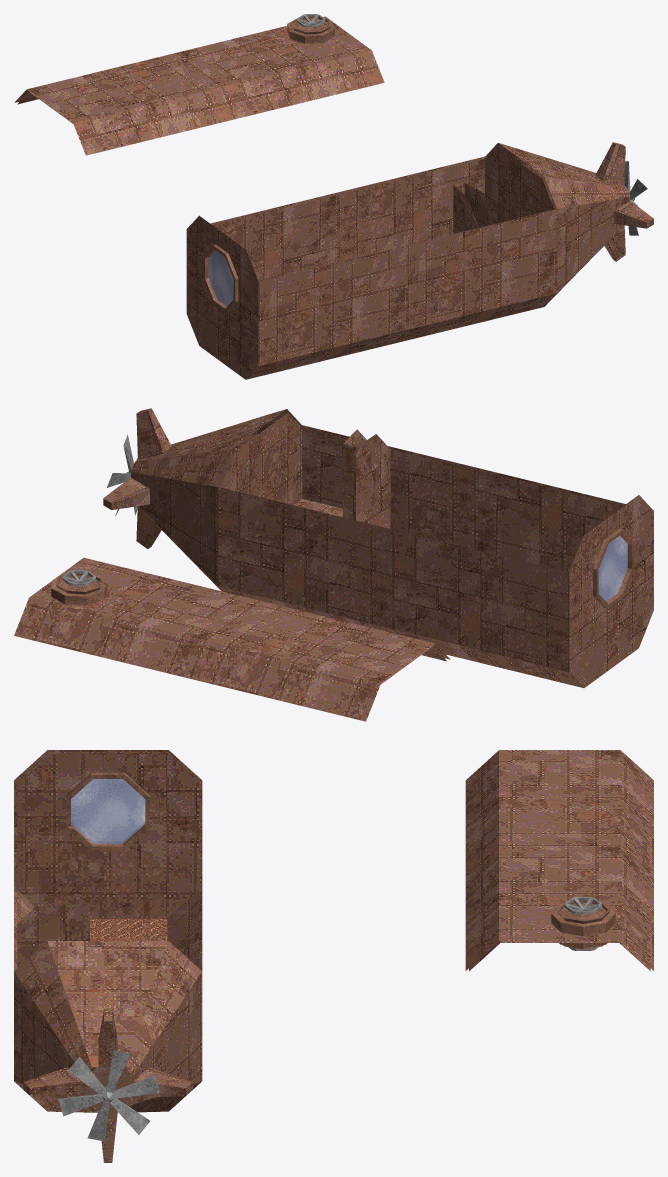
File: psx_sub_free.glb
3 views of the same model, one above another, from view 1: azimuth 30°, elevation 25°; view 2: azimuth 150°, elevation 25°; view 3: azimuth 270°, elevation 25° (orthographic). The views are drawn at different scales.
Parts seen in each view (by area): view 1: Sub, Roof, Glass, Exit, PortHole; view 2: Sub, Roof, Glass, Exit, PortHole, Propeller; view 3: Sub, Roof, Glass, Propeller, Exit, PortHole.
Boxes of the visible parts, x1,y1,x2,y2 form: Sub: [186, 142, 653, 379]; Roof: [14, 16, 384, 155]; Glass: [208, 250, 233, 306]; Exit: [287, 16, 334, 43]; PortHole: [203, 244, 238, 312]; Sub: [103, 408, 653, 687]; Roof: [14, 557, 450, 721]; Glass: [598, 535, 627, 601]; Exit: [51, 573, 107, 605]; PortHole: [593, 528, 634, 608]; Propeller: [107, 434, 137, 516]; Sub: [14, 750, 202, 1162]; Roof: [465, 750, 653, 971]; Glass: [71, 779, 145, 844]; Propeller: [58, 1050, 160, 1141]; Exit: [551, 900, 615, 949]; PortHole: [66, 772, 149, 850].
Size of the model in its own units: 8.33 by 2.77 by 8.5.
Materials: 5 (5 with a texture image).
